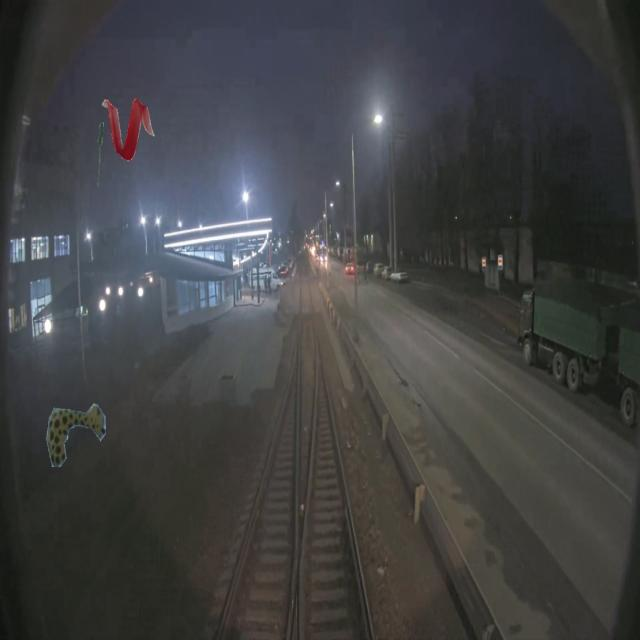floating object: (46, 403, 106, 467), (102, 97, 155, 161), (96, 121, 104, 186)
